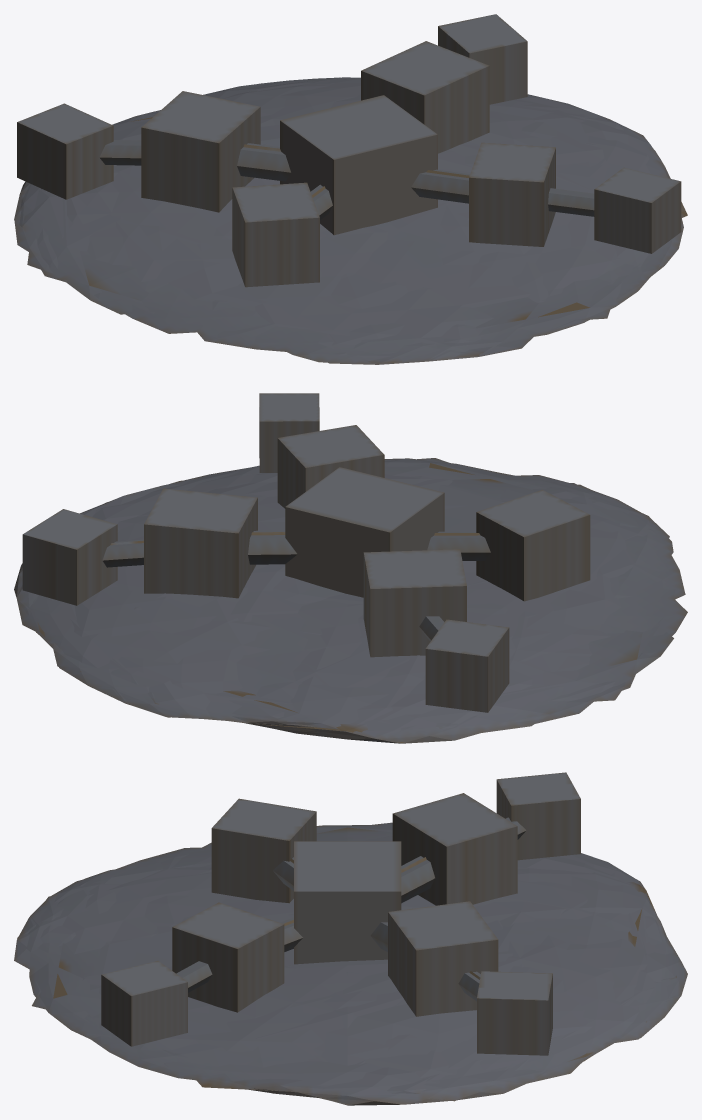
The model's file is SF_INCL_NICKEL_DENDRITE_V1.glb.
The picture shows the model from 3 angles, top to bottom: view 1: azimuth 30°, elevation 25°; view 2: azimuth 150°, elevation 25°; view 3: azimuth 270°, elevation 25°; orthographic projection.
Visible parts, largest first — view 1: LOD0_SF_INCL_NICKEL_DENDRITE_V1, LOD1_SF_INCL_NICKEL_DENDRITE_V1, LOD2_SF_INCL_NICKEL_DENDRITE_V1; view 2: LOD0_SF_INCL_NICKEL_DENDRITE_V1, LOD1_SF_INCL_NICKEL_DENDRITE_V1, LOD2_SF_INCL_NICKEL_DENDRITE_V1; view 3: LOD0_SF_INCL_NICKEL_DENDRITE_V1, LOD1_SF_INCL_NICKEL_DENDRITE_V1, LOD2_SF_INCL_NICKEL_DENDRITE_V1.
Boxes of the visible parts, left/top/right/bottom form: LOD0_SF_INCL_NICKEL_DENDRITE_V1: left=14, top=14, right=683, bottom=364; LOD1_SF_INCL_NICKEL_DENDRITE_V1: left=22, top=81, right=687, bottom=363; LOD2_SF_INCL_NICKEL_DENDRITE_V1: left=79, top=117, right=597, bottom=328; LOD0_SF_INCL_NICKEL_DENDRITE_V1: left=14, top=393, right=687, bottom=743; LOD1_SF_INCL_NICKEL_DENDRITE_V1: left=33, top=463, right=668, bottom=742; LOD2_SF_INCL_NICKEL_DENDRITE_V1: left=117, top=463, right=642, bottom=712; LOD0_SF_INCL_NICKEL_DENDRITE_V1: left=14, top=772, right=687, bottom=1105; LOD1_SF_INCL_NICKEL_DENDRITE_V1: left=17, top=822, right=676, bottom=1104; LOD2_SF_INCL_NICKEL_DENDRITE_V1: left=53, top=827, right=641, bottom=1101.
Bounding box in the file's own units: 1.13 × 0.179 × 1.13.
Materials: 1 (1 with a texture image).
